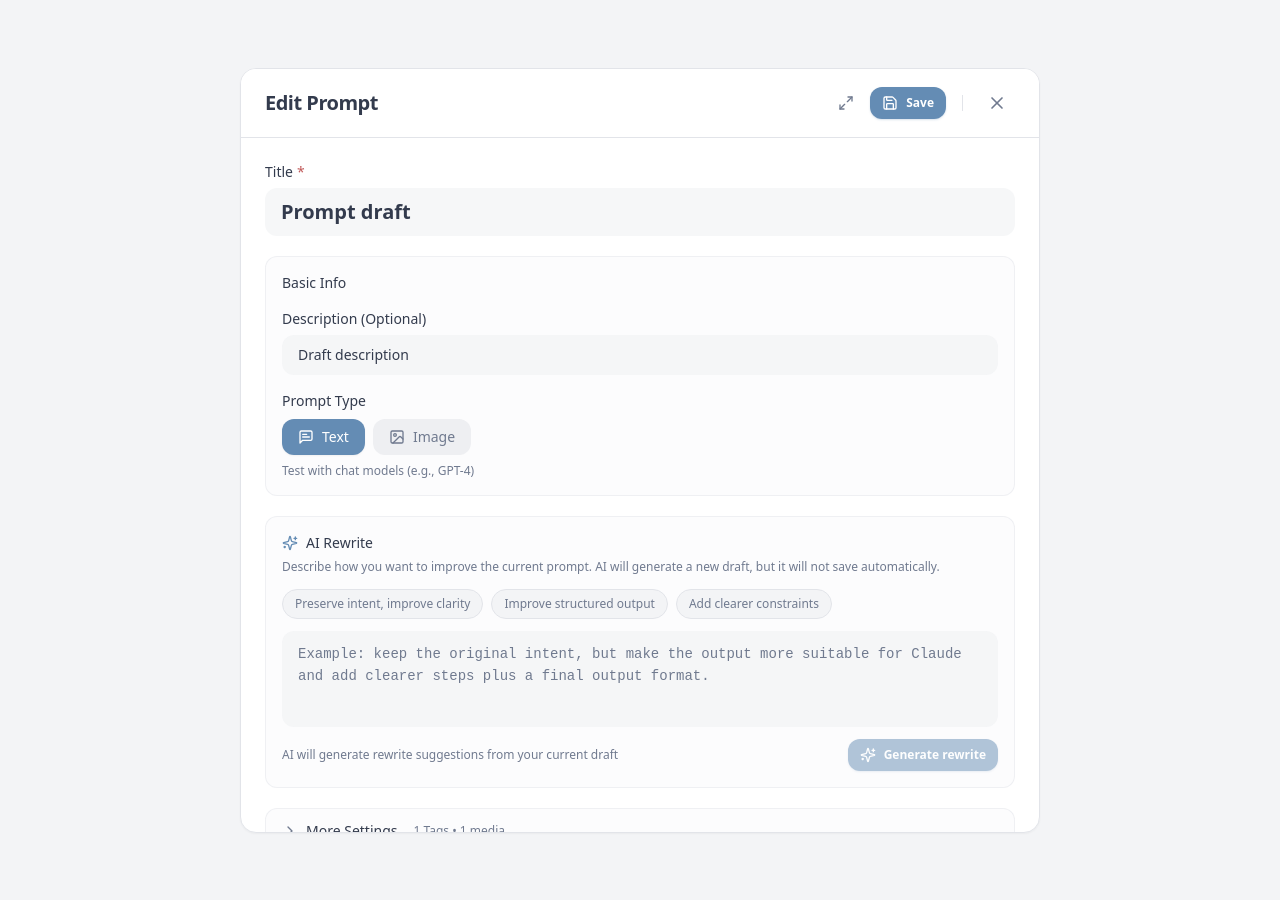
it: Prompt modal structure › keeps text prompt reference media inside more settings when editing
Check: the heading "Basic Info" is shown, box [282,272,346,292]
Check: the text "Description (Optional)" is shown, box [282,308,426,328]
Click the button "More Settings 1 Tags • 1 media".
click(352, 830)  # box [266,808,1014,852]
(page scrolled)
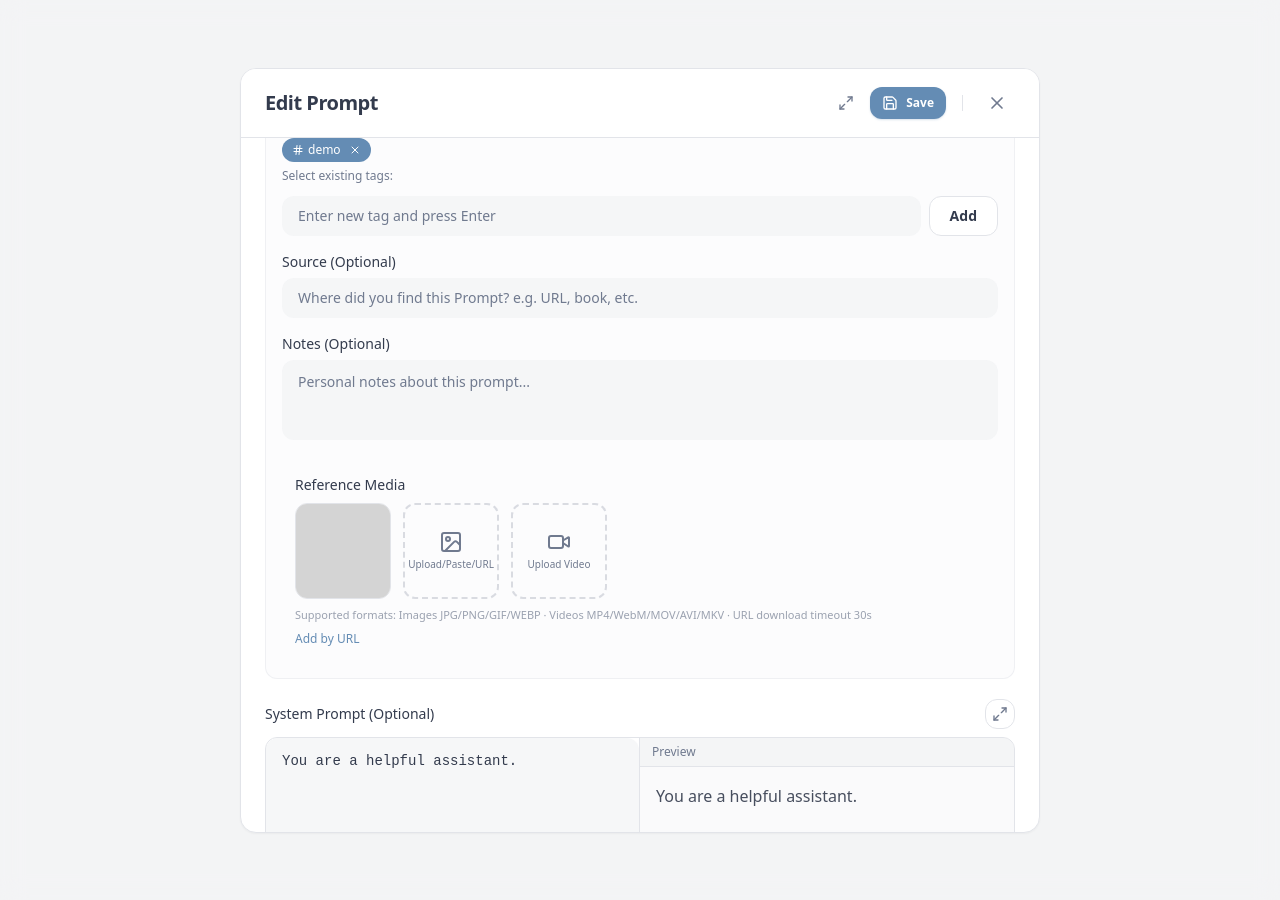
Check: the text "Reference Media" is shown, box [295,474,405,494]
